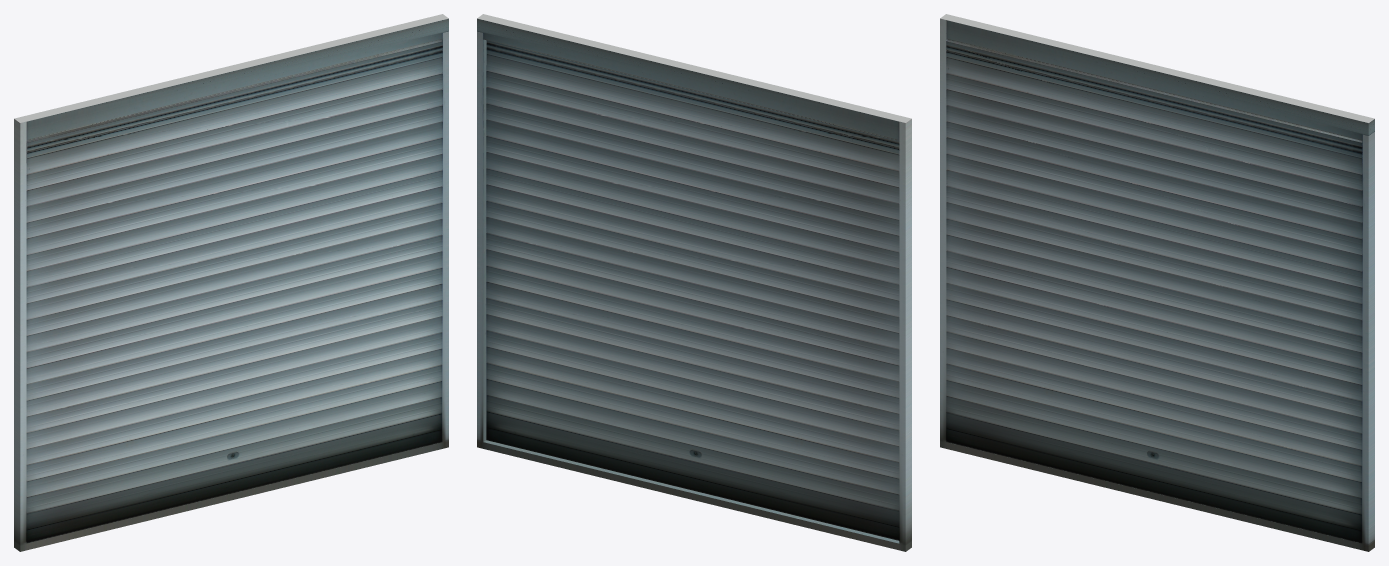
Rendered from Garge_Door_01.fbx.
The picture shows the model from 3 angles, left to right: view 1: azimuth 30°, elevation 25°; view 2: azimuth 150°, elevation 25°; view 3: azimuth 330°, elevation 25°; orthographic projection.
Parts seen in each view (by area): view 1: Door.001, Frame; view 2: Door.001, Frame; view 3: Door.001, Frame.
Part boxes in pixels (x1,y1,x2,y2): Door.001: (26,40,442,543); Frame: (14,14,448,551); Door.001: (486,40,899,540); Frame: (477,14,911,551); Door.001: (946,40,1362,543); Frame: (940,14,1374,551).
Bounding box in the file's own units: 523 × 500 × 13.71.
